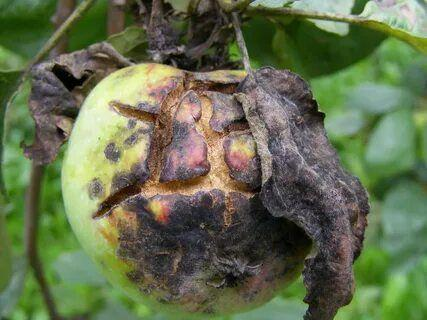Apple: (59, 56, 323, 320)
